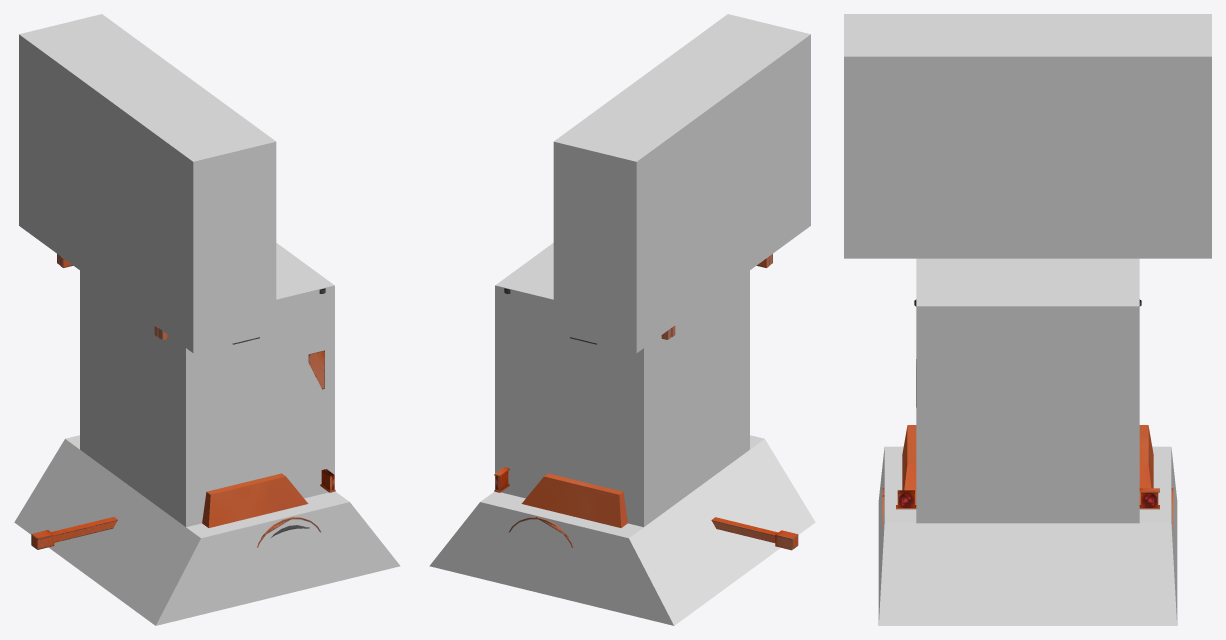
File: arrowboard_L.dae
3 views of the same model, side by side, from view 1: azimuth 30°, elevation 25°; view 2: azimuth 150°, elevation 25°; view 3: azimuth 270°, elevation 25° (orthographic). The views are drawn at different scales.
Parts seen in each view (by area): view 1: Colmesh-1, arrowboard_L_a030, arrowboard_L_a200; view 2: Colmesh-1, arrowboard_L_a030, arrowboard_L_a200; view 3: Colmesh-1, arrowboard_L_a030, arrowboard_L_a200.
Part boxes in pixels (x1,y1,x2,y2): Colmesh-1: (14,14,400,625); arrowboard_L_a030: (202,337,308,527); arrowboard_L_a200: (31,254,335,549); Colmesh-1: (429,14,815,625); arrowboard_L_a030: (521,337,627,527); arrowboard_L_a200: (494,254,797,549); Colmesh-1: (844,14,1211,625); arrowboard_L_a030: (902,425,1153,504); arrowboard_L_a200: (882,299,1173,531).
Size of the model in its own units: 2.41 by 2.47 by 3.68.
Materials: 2 (2 with a texture image).
